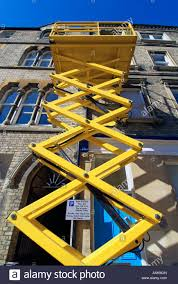Scissor Lift: (6, 20, 165, 269)
